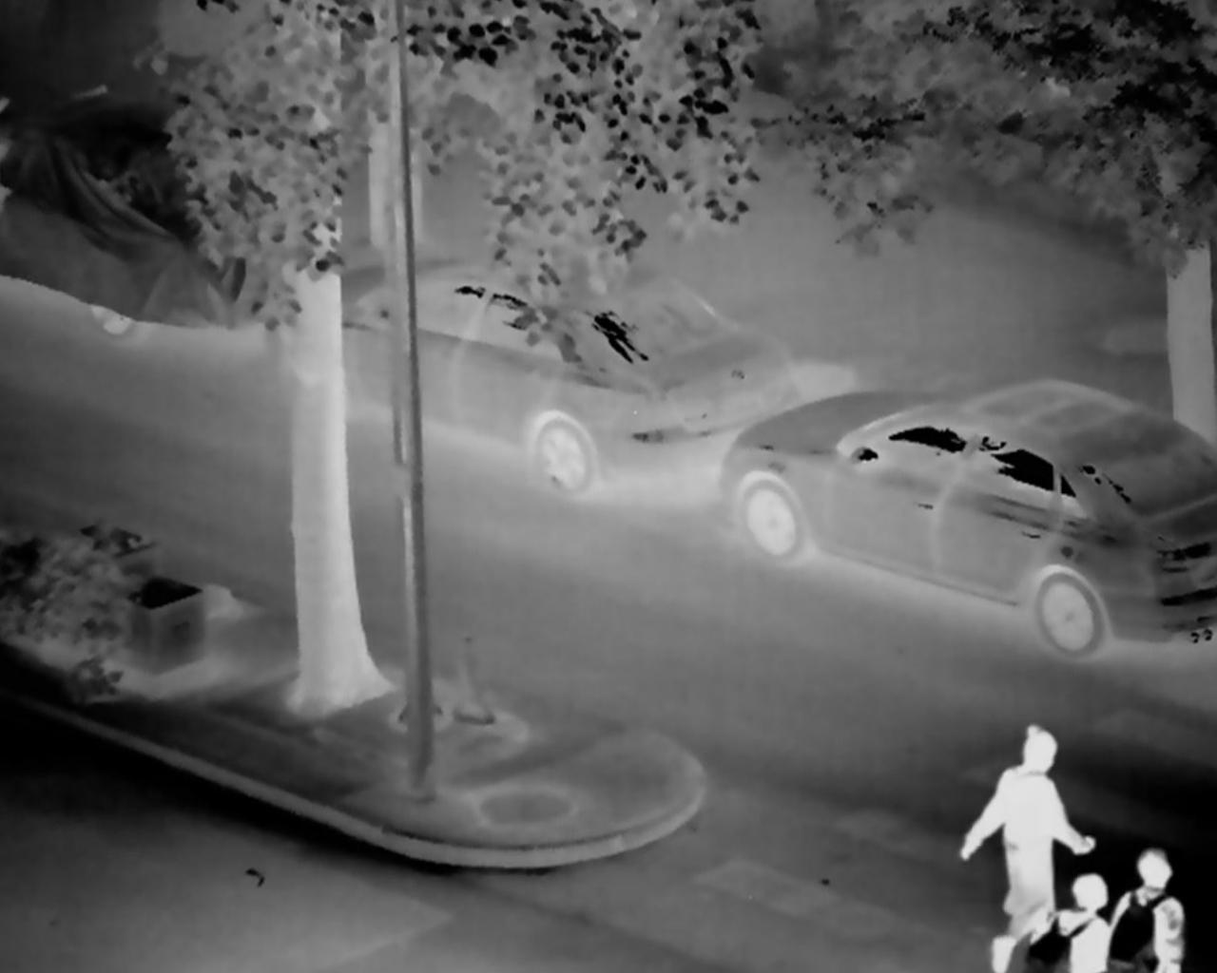person: (958, 717, 1096, 973), (1105, 849, 1194, 973), (1055, 875, 1110, 973)
